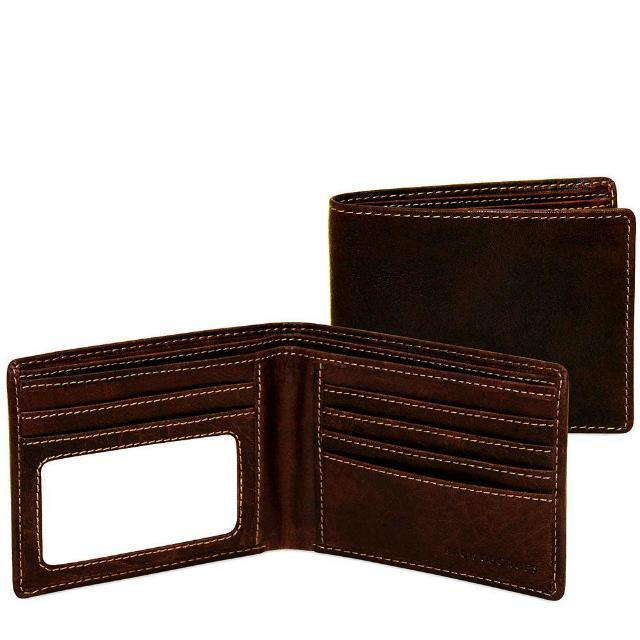wallet: (14, 319, 568, 611), (331, 176, 635, 432)
